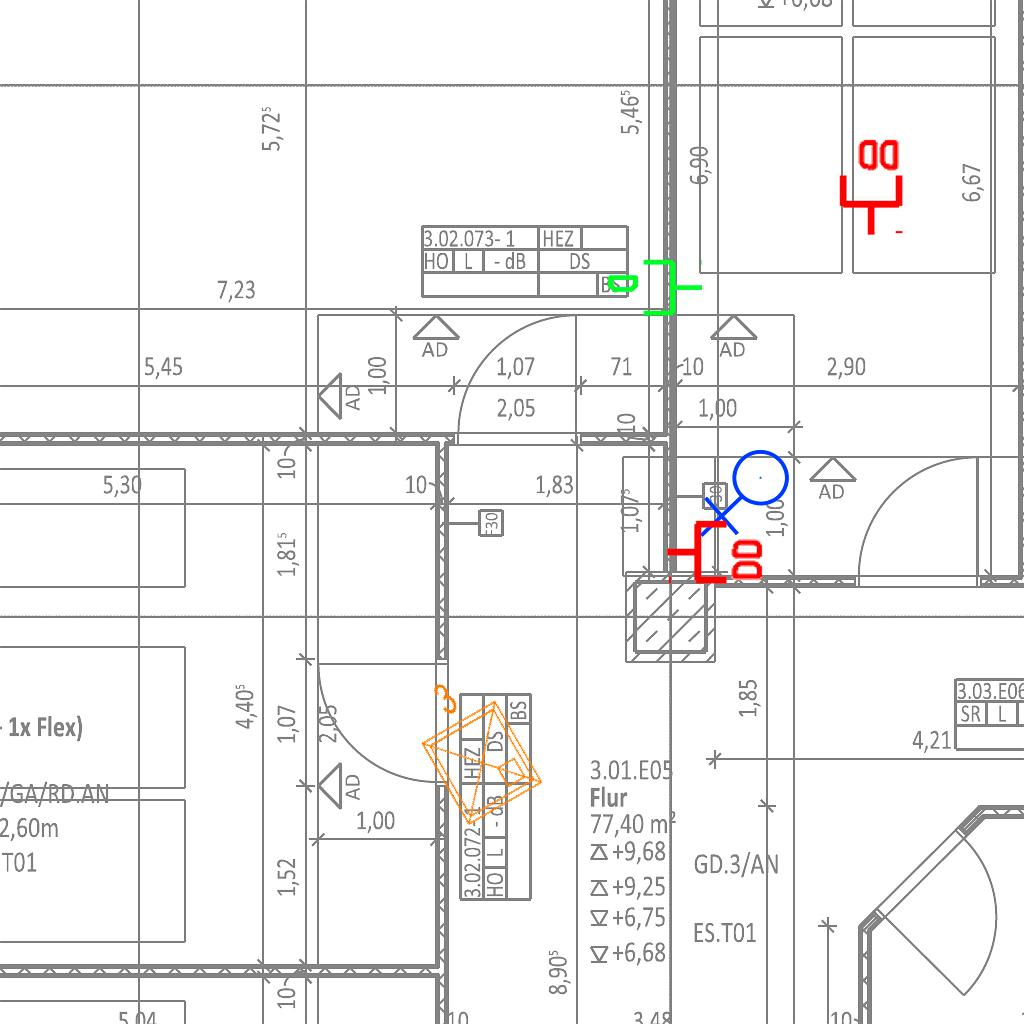Datenanschluss_einfach: (605, 255, 705, 324)
Datenanschluss_zweifach: (835, 135, 904, 238), (664, 516, 767, 585)
Einbaudownlights_LED_Konferenzraeume: (387, 655, 553, 837)
Elektroanschluss_allgemein_230V_Geraeteanschlussdose_230V: (699, 448, 798, 542)
